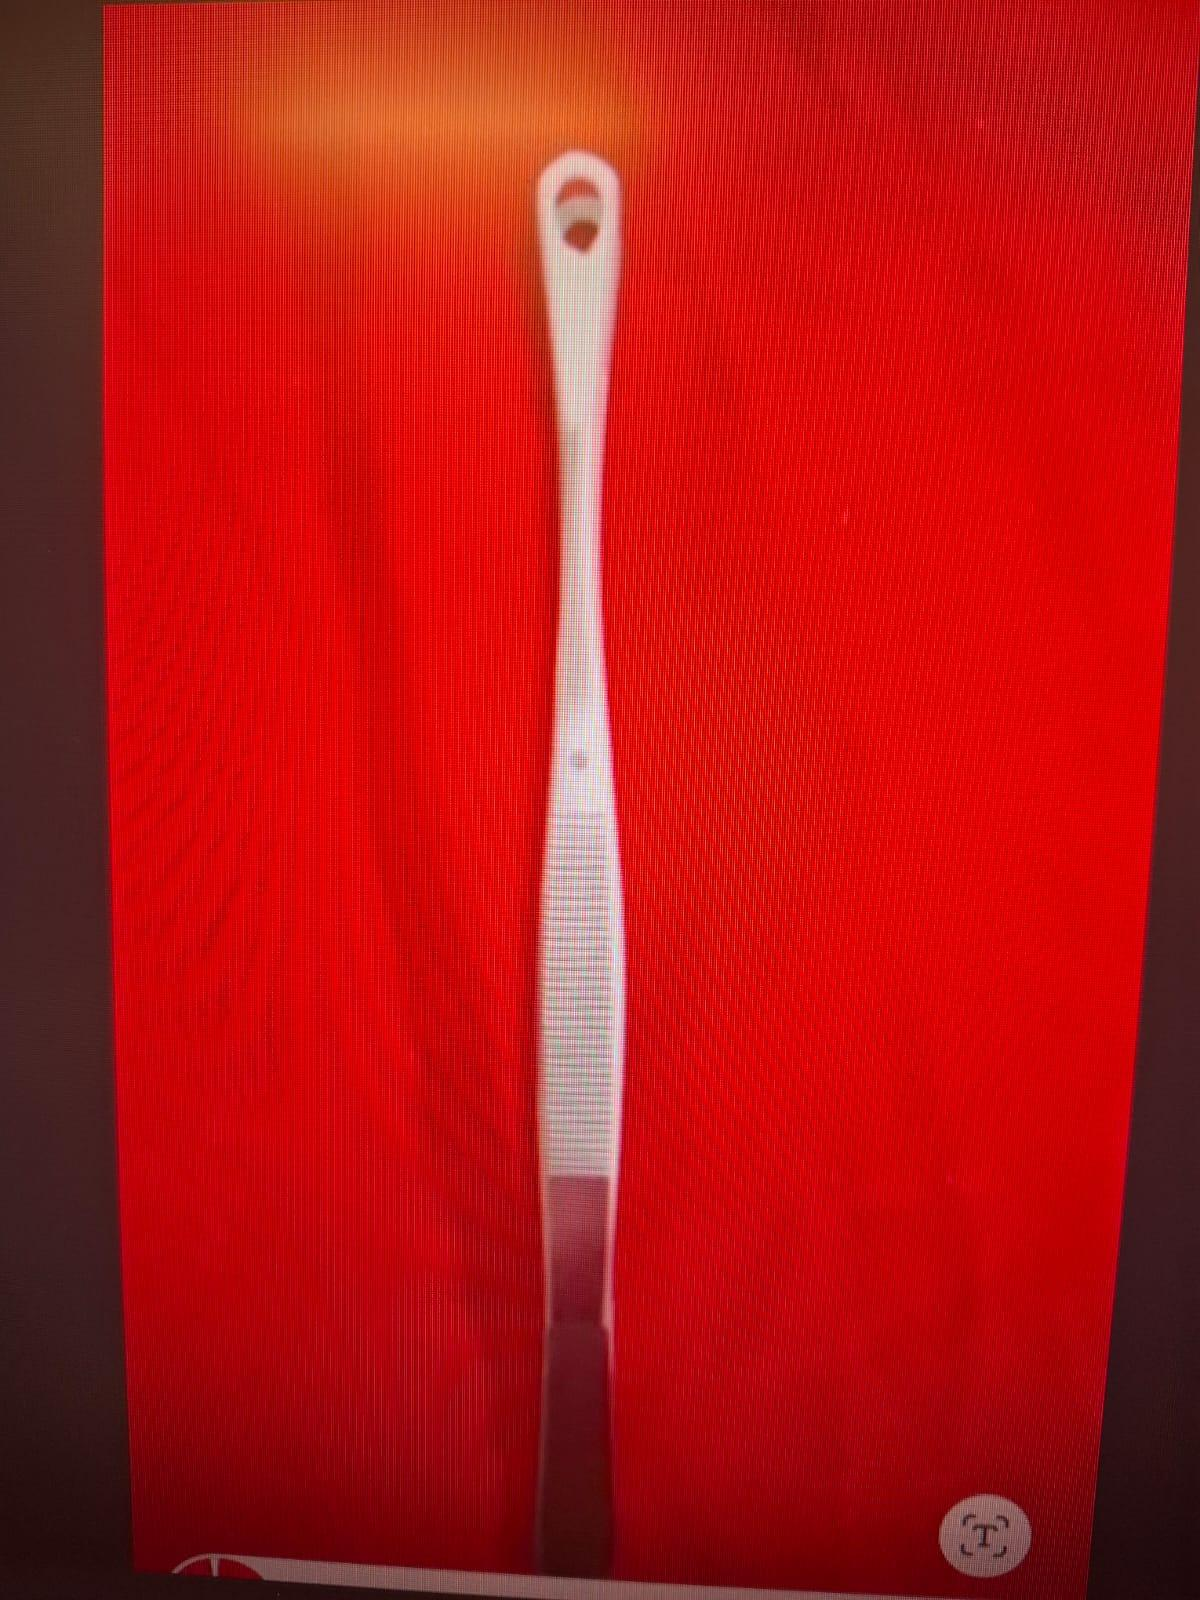Eye Intestinal Forceps: (488, 145, 671, 1575)
